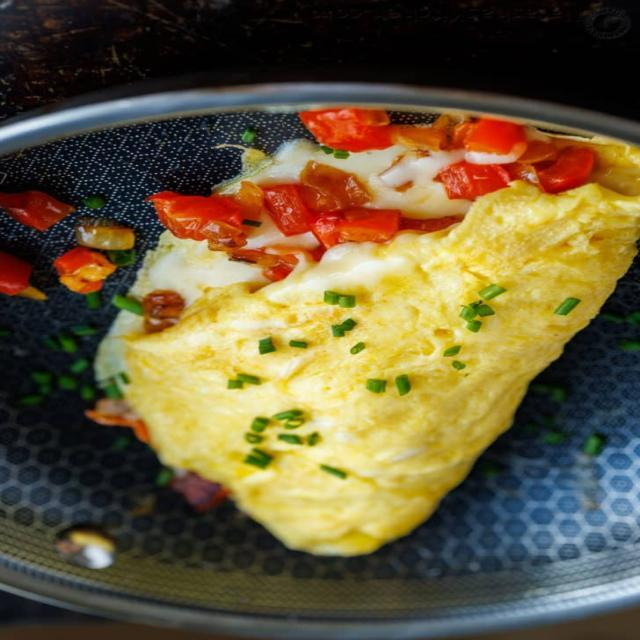telur_ayam_dadar: (90, 111, 640, 559)
